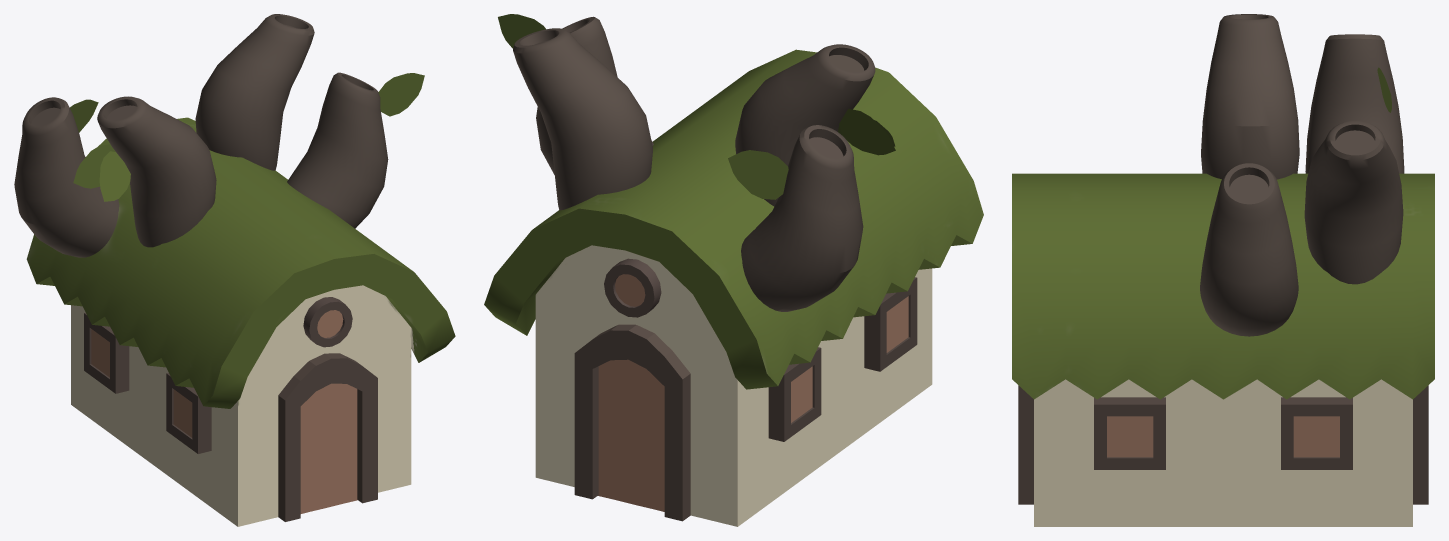
Rendered from zavod_1_readu.fbx.
3 renders of one model, left to right at view 1: azimuth 30°, elevation 25°; view 2: azimuth 150°, elevation 25°; view 3: azimuth 270°, elevation 25°, orthographic. The views are drawn at different scales.
Visible parts, largest first — view 1: Cube, Cylinder.002, Plane, Cube.002, Plane.004, Cube.001, Cube.003, Cylinder.012, Cylinder.001; view 2: Cube, Cylinder.002, Plane, Cube.002, Cube.001, Plane.004, Cube.003, Cylinder.012, Cylinder.001; view 3: Cube, Cylinder.002, Cube.001, Cube.003, Plane.
Part boxes in pixels (<box>): Cube: <box>26,117,455,526</box>; Cylinder.002: <box>14,14,388,257</box>; Plane: <box>278,353,377,521</box>; Cube.002: <box>300,383,357,513</box>; Plane.004: <box>70,73,424,201</box>; Cube.001: <box>84,312,211,453</box>; Cube.003: <box>91,329,192,437</box>; Cylinder.012: <box>303,297,352,347</box>; Cylinder.001: <box>317,310,343,337</box>; Cube: <box>484,49,983,526</box>; Cylinder.002: <box>513,16,875,311</box>; Plane: <box>574,324,690,521</box>; Cube.002: <box>598,359,664,511</box>; Cube.001: <box>768,277,917,441</box>; Plane.004: <box>498,14,895,199</box>; Cube.003: <box>791,296,908,422</box>; Cylinder.012: <box>604,258,661,317</box>; Cylinder.001: <box>615,274,645,306</box>; Cube: <box>1012,173,1434,526</box>; Cylinder.002: <box>1200,14,1404,336</box>; Cube.001: <box>1094,397,1352,469</box>; Cube.003: <box>1107,416,1339,457</box>; Plane: <box>1018,385,1428,504</box>.
Size of the model in its own units: 879 by 849 by 795.
9 materials, 9 textured.
